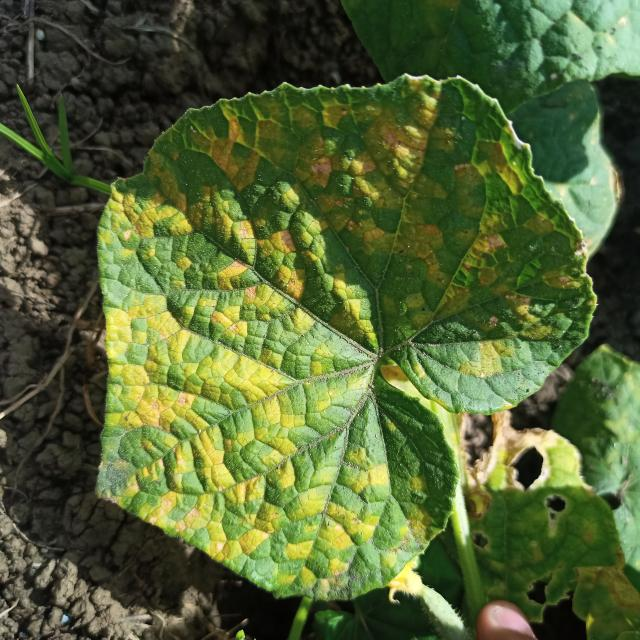disease_cucumber: (106, 85, 559, 584)
